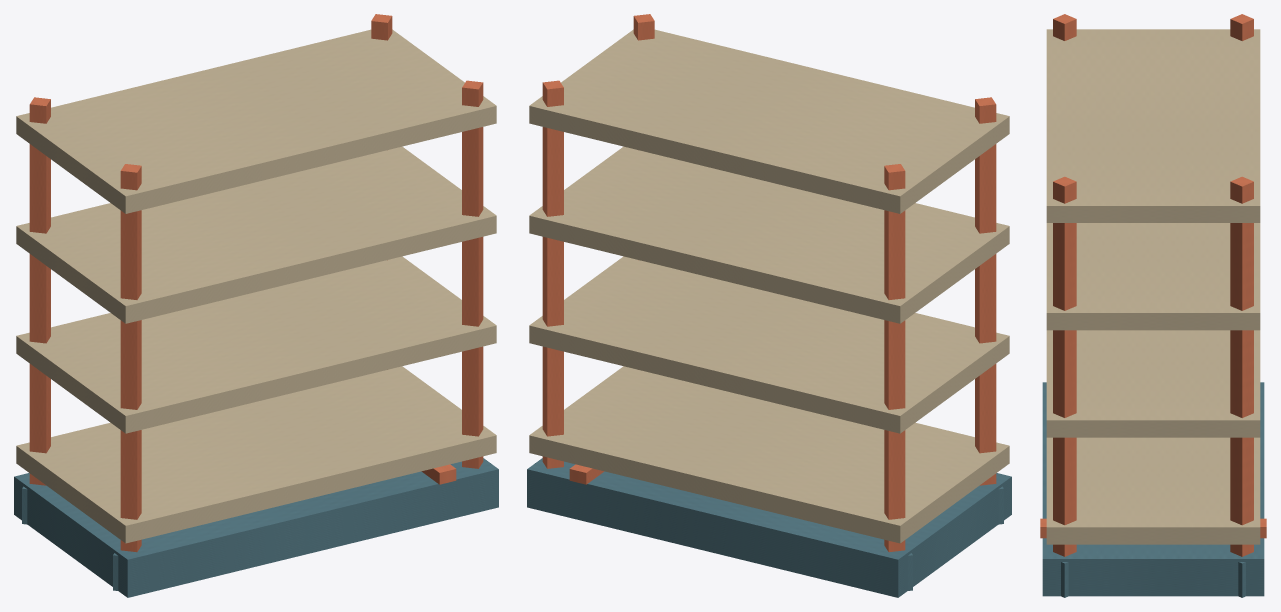
The model's file is atlas100-s050-a06.lod2.glb.
The picture shows the model from 3 angles, left to right: view 1: azimuth 30°, elevation 25°; view 2: azimuth 150°, elevation 25°; view 3: azimuth 270°, elevation 25°; orthographic projection. The views are drawn at different scales.
Parts seen in each view (by area): view 1: atlas100-s050-a06:part-014, atlas100-s050-a06:part-011, atlas100-s050-a06:part-013, atlas100-s050-a06:part-012, atlas100-s050-a06:part-000, atlas100-s050-a06:part-005, atlas100-s050-a06:part-009, atlas100-s050-a06:part-003; view 2: atlas100-s050-a06:part-014, atlas100-s050-a06:part-011, atlas100-s050-a06:part-013, atlas100-s050-a06:part-012, atlas100-s050-a06:part-000, atlas100-s050-a06:part-003, atlas100-s050-a06:part-007, atlas100-s050-a06:part-005; view 3: atlas100-s050-a06:part-014, atlas100-s050-a06:part-013, atlas100-s050-a06:part-012, atlas100-s050-a06:part-011, atlas100-s050-a06:part-000, atlas100-s050-a06:part-007, atlas100-s050-a06:part-009, atlas100-s050-a06:part-003, atlas100-s050-a06:part-005.
Boxes of the visible parts, bbox=[...] form: atlas100-s050-a06:part-014: bbox=[16, 29, 496, 213]; atlas100-s050-a06:part-011: bbox=[16, 366, 496, 543]; atlas100-s050-a06:part-013: bbox=[16, 146, 496, 323]; atlas100-s050-a06:part-012: bbox=[16, 256, 496, 433]; atlas100-s050-a06:part-000: bbox=[14, 458, 498, 597]; atlas100-s050-a06:part-005: bbox=[120, 164, 141, 552]; atlas100-s050-a06:part-009: bbox=[462, 80, 483, 468]; atlas100-s050-a06:part-003: bbox=[29, 97, 50, 485]; atlas100-s050-a06:part-014: bbox=[529, 29, 1009, 213]; atlas100-s050-a06:part-011: bbox=[529, 366, 1009, 543]; atlas100-s050-a06:part-013: bbox=[529, 146, 1009, 323]; atlas100-s050-a06:part-012: bbox=[529, 256, 1009, 433]; atlas100-s050-a06:part-000: bbox=[527, 458, 1011, 597]; atlas100-s050-a06:part-003: bbox=[884, 164, 905, 552]; atlas100-s050-a06:part-007: bbox=[542, 80, 563, 468]; atlas100-s050-a06:part-005: bbox=[975, 97, 996, 485]; atlas100-s050-a06:part-014: bbox=[1046, 29, 1260, 222]; atlas100-s050-a06:part-013: bbox=[1046, 223, 1260, 330]; atlas100-s050-a06:part-012: bbox=[1046, 330, 1260, 437]; atlas100-s050-a06:part-011: bbox=[1046, 437, 1260, 544]; atlas100-s050-a06:part-000: bbox=[1042, 382, 1264, 596]; atlas100-s050-a06:part-007: bbox=[1230, 176, 1253, 556]; atlas100-s050-a06:part-009: bbox=[1053, 176, 1076, 556]; atlas100-s050-a06:part-003: bbox=[1230, 14, 1253, 40]; atlas100-s050-a06:part-005: bbox=[1053, 14, 1076, 40].
Size of the model in its own units: 2.69 by 2.84 by 1.43.
Materials: 3 (3 with a texture image).
